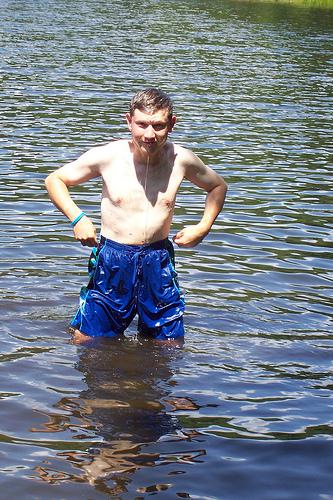swimmer: (44, 81, 228, 354)
